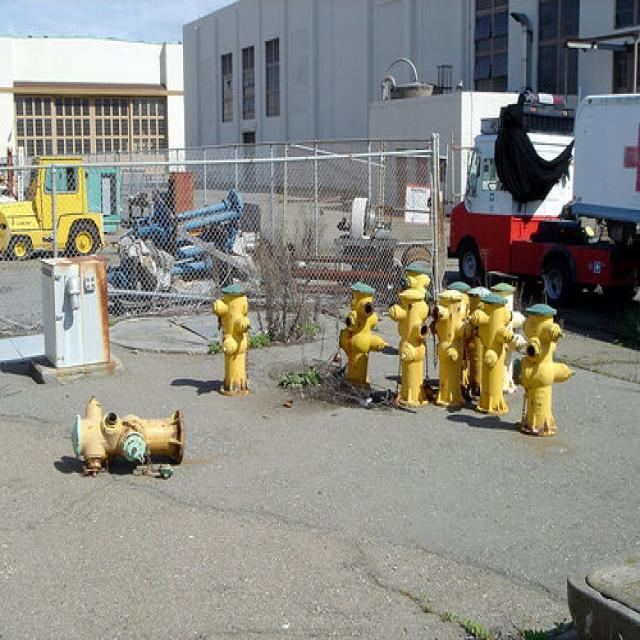fire_hydrant: (66, 393, 180, 471), (509, 300, 574, 436), (467, 278, 526, 416), (338, 280, 389, 392), (391, 283, 432, 415), (431, 292, 471, 403), (213, 285, 250, 398), (397, 260, 430, 380), (466, 286, 489, 399), (448, 282, 470, 294)
